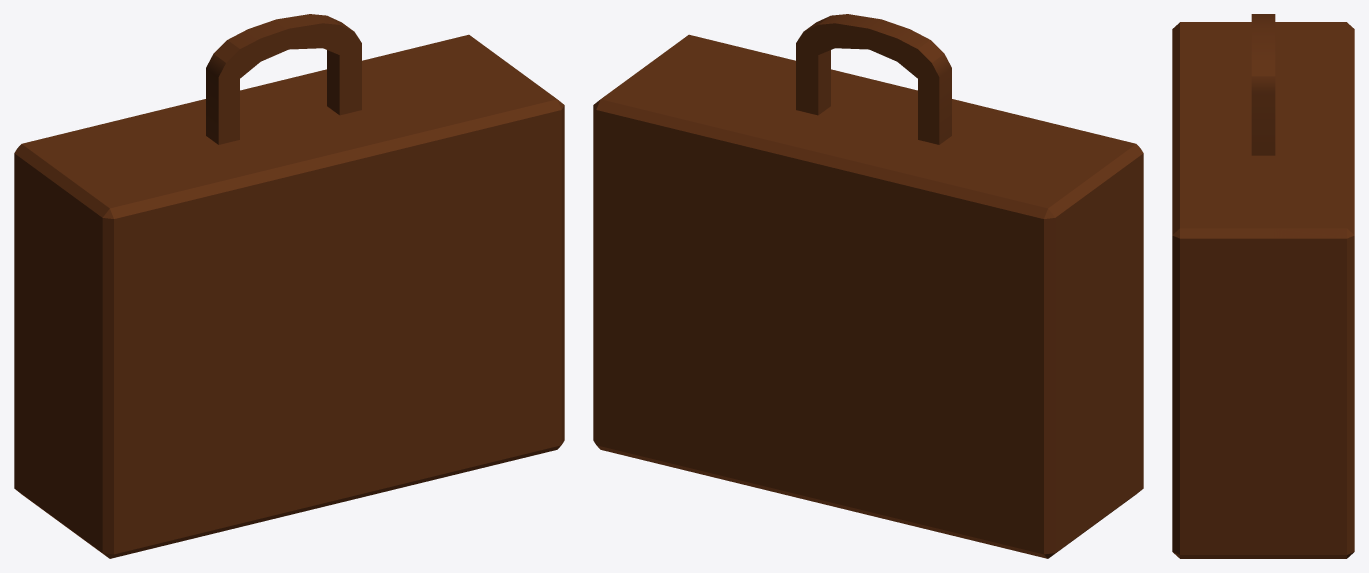
The model's file is briefcase.fbx.
The picture shows the model from 3 angles, left to right: view 1: azimuth 30°, elevation 25°; view 2: azimuth 150°, elevation 25°; view 3: azimuth 270°, elevation 25°; orthographic projection. The views are drawn at different scales.
Visible parts, largest first — view 1: Briefcase_Geo; view 2: Briefcase_Geo; view 3: Briefcase_Geo.
Boxes of the visible parts, bbox=[...] form: Briefcase_Geo: bbox=[14, 14, 564, 558]; Briefcase_Geo: bbox=[593, 14, 1143, 558]; Briefcase_Geo: bbox=[1172, 14, 1354, 558].
Size of the model in its own units: 5.81 by 5.4 by 2.1.
